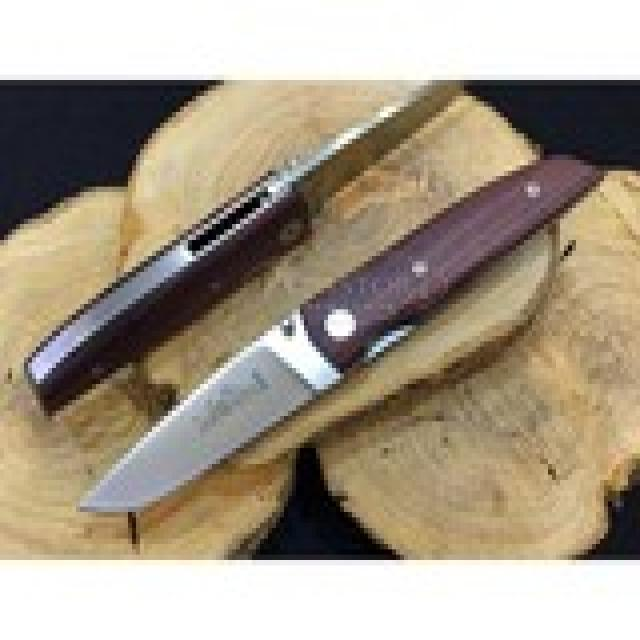Knife: (20, 89, 598, 529)
